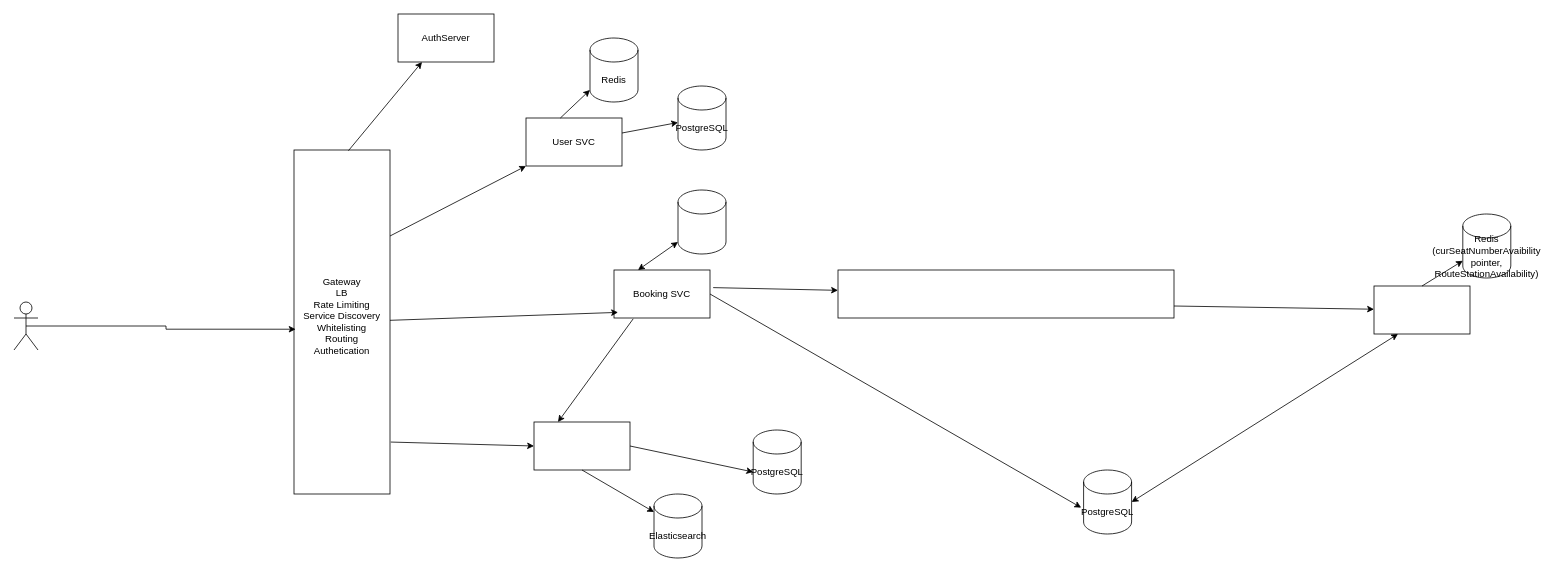
This 1554x572 diagram has some shape labels left out. The centre of each missing label's shape, as x and y in pixels:
"Actor" belongs at point (25, 325).
"Consumer - booking Confirmartion" belongs at point (1421, 309).
"kafka (PK - routeId)" belongs at point (1005, 293).
"Redis (RouteStationAvailability)" belongs at point (701, 221).
"Train (Search SVC)" belongs at point (581, 445).
